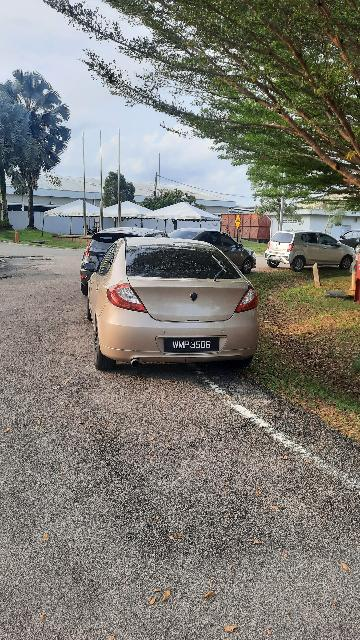License_Plate: (163, 336, 222, 354)
car: (84, 236, 264, 375)
